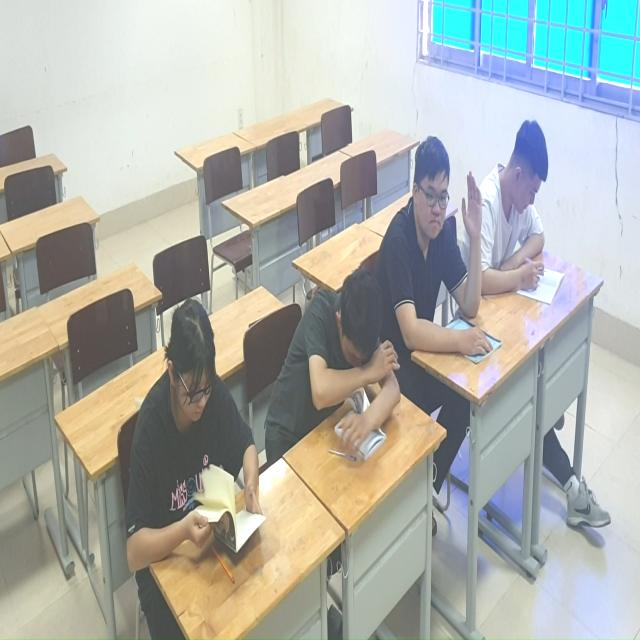raise_hand: (390, 133, 488, 358)
read: (121, 301, 272, 575), (483, 120, 568, 311)
sleep: (269, 266, 408, 450)
